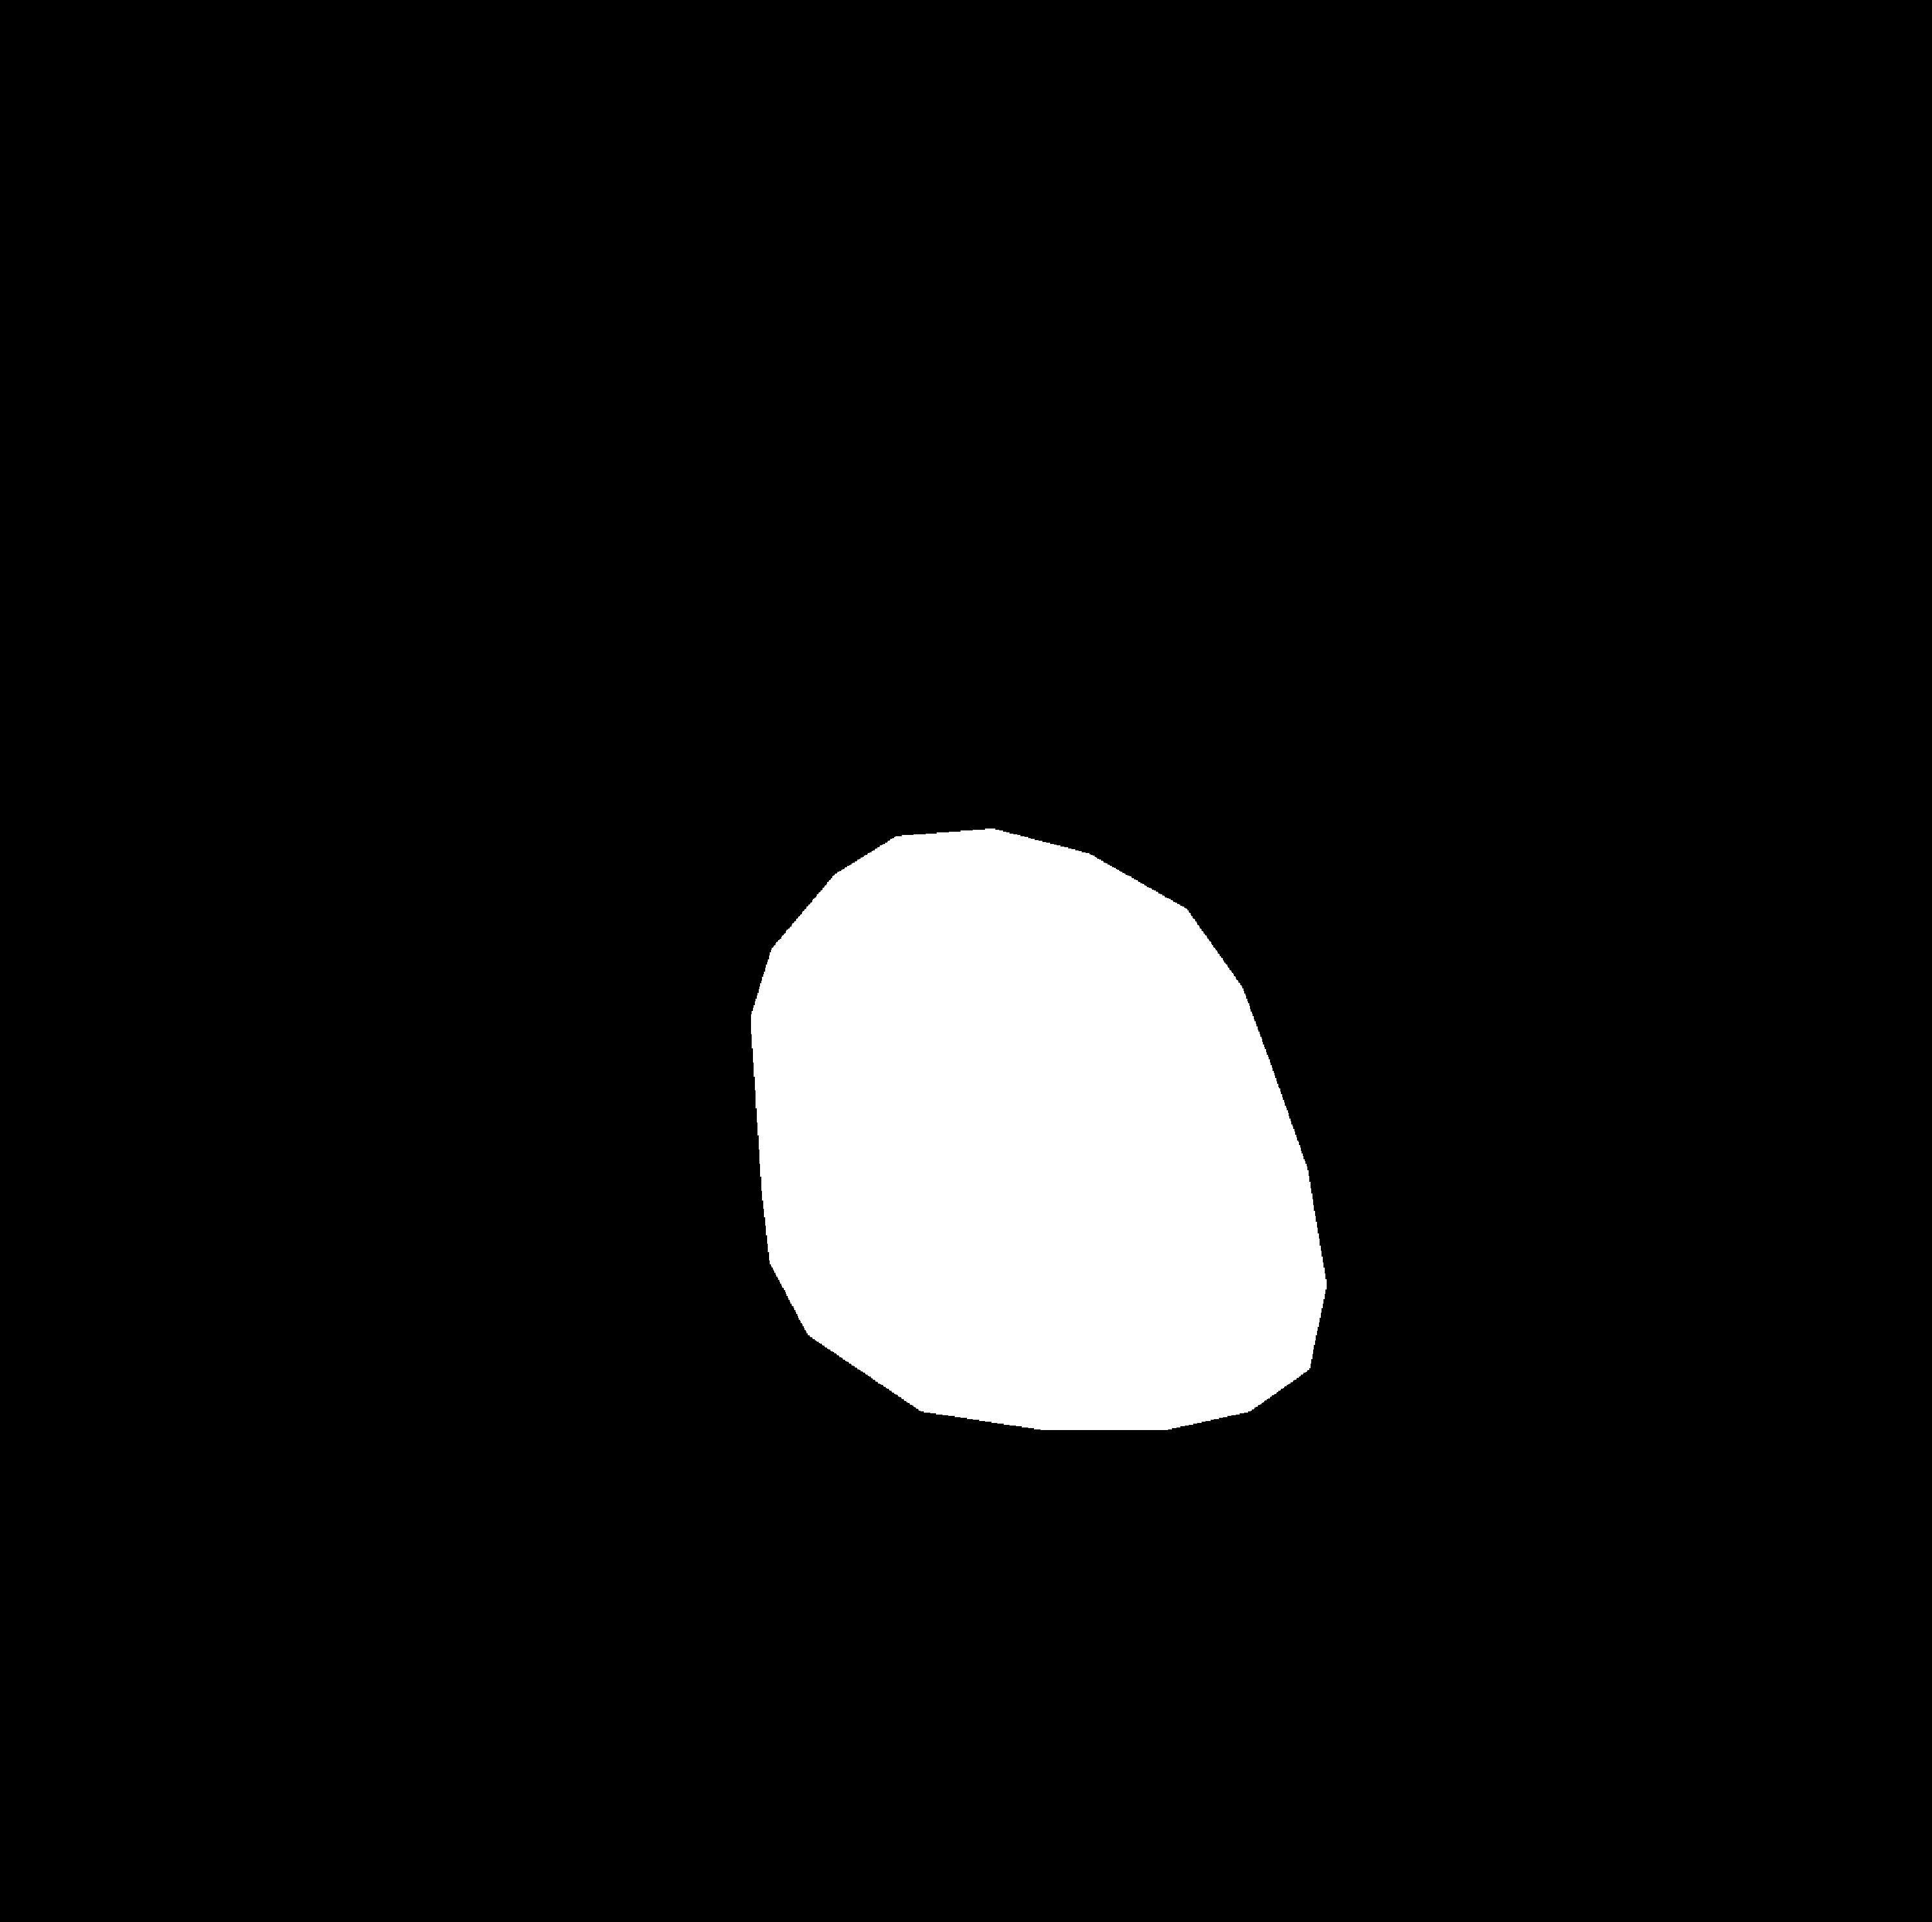heart: (751, 885, 1323, 1449)
left_lung: (294, 220, 878, 1517)
right_lung: (1080, 246, 1578, 1581)
